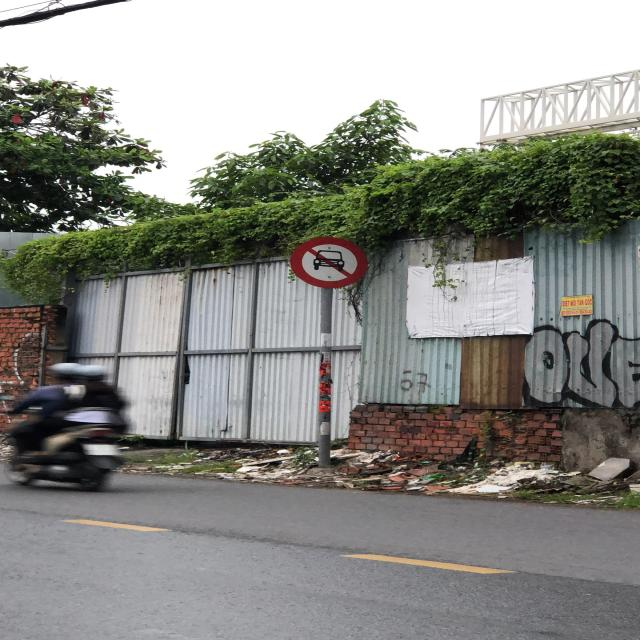Bien bao cam xe oto: (288, 234, 372, 292)
